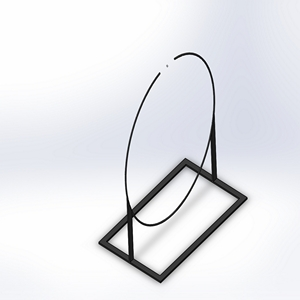circle: (92, 50, 252, 283)
